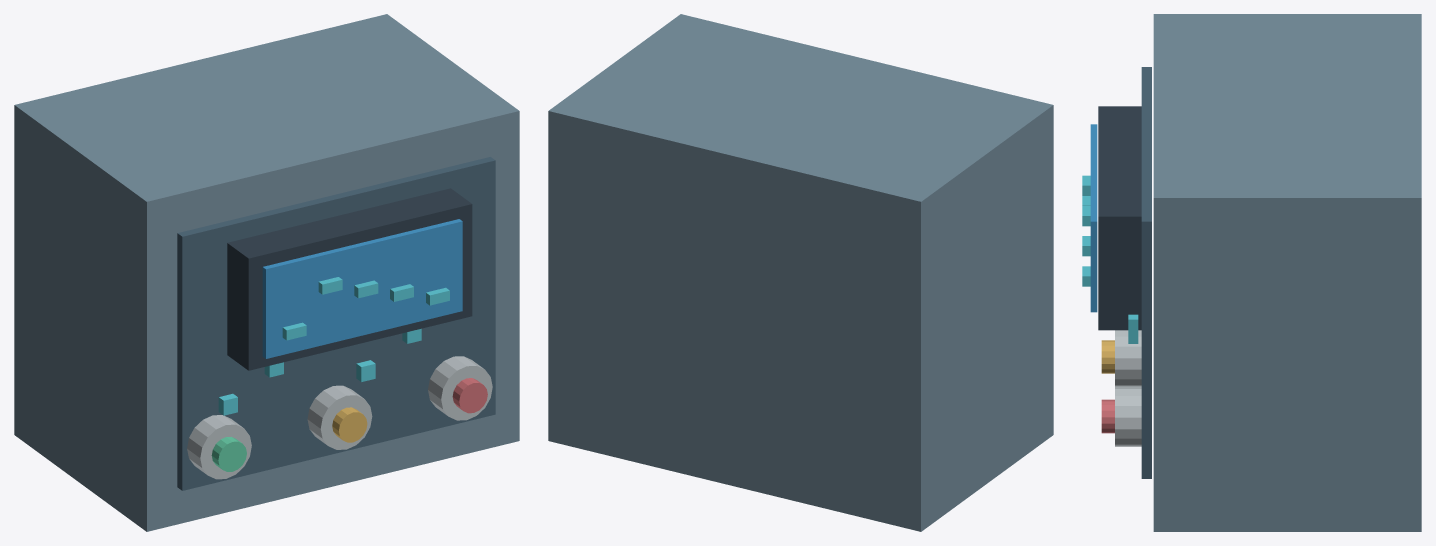
Rendered from 32_L69_PressureEnthalpyCycleDisplay.glb.
The picture shows the model from 3 angles, left to right: view 1: azimuth 30°, elevation 25°; view 2: azimuth 150°, elevation 25°; view 3: azimuth 270°, elevation 25°; orthographic projection.
Visible parts, largest first — view 1: PressureEnthalpyCycleDisplay_Part_000, PressureEnthalpyCycleDisplay_Part_001, PressureEnthalpyCycleDisplay_Part_003, PressureEnthalpyCycleDisplay_Part_002, PressureEnthalpyCycleDisplay_Part_013, PressureEnthalpyCycleDisplay_Part_011, PressureEnthalpyCycleDisplay_Part_009, PressureEnthalpyCycleDisplay_Part_012, PressureEnthalpyCycleDisplay_Part_014, PressureEnthalpyCycleDisplay_Part_010; view 2: PressureEnthalpyCycleDisplay_Part_000; view 3: PressureEnthalpyCycleDisplay_Part_000, PressureEnthalpyCycleDisplay_Part_002, PressureEnthalpyCycleDisplay_Part_001, PressureEnthalpyCycleDisplay_Part_013, PressureEnthalpyCycleDisplay_Part_003, PressureEnthalpyCycleDisplay_Part_011, PressureEnthalpyCycleDisplay_Part_014, PressureEnthalpyCycleDisplay_Part_012.
Part boxes in pixels (x1,y1,x2,y2): PressureEnthalpyCycleDisplay_Part_000: [14, 14, 519, 531]; PressureEnthalpyCycleDisplay_Part_001: [177, 157, 495, 490]; PressureEnthalpyCycleDisplay_Part_003: [262, 219, 462, 358]; PressureEnthalpyCycleDisplay_Part_002: [227, 188, 472, 370]; PressureEnthalpyCycleDisplay_Part_013: [428, 356, 492, 420]; PressureEnthalpyCycleDisplay_Part_011: [307, 385, 372, 449]; PressureEnthalpyCycleDisplay_Part_009: [187, 415, 251, 479]; PressureEnthalpyCycleDisplay_Part_012: [332, 407, 367, 442]; PressureEnthalpyCycleDisplay_Part_014: [452, 378, 487, 413]; PressureEnthalpyCycleDisplay_Part_010: [211, 437, 246, 471]; PressureEnthalpyCycleDisplay_Part_000: [548, 14, 1053, 531]; PressureEnthalpyCycleDisplay_Part_000: [1153, 14, 1421, 531]; PressureEnthalpyCycleDisplay_Part_002: [1098, 106, 1141, 330]; PressureEnthalpyCycleDisplay_Part_001: [1141, 67, 1151, 478]; PressureEnthalpyCycleDisplay_Part_013: [1115, 386, 1141, 446]; PressureEnthalpyCycleDisplay_Part_003: [1090, 124, 1097, 312]; PressureEnthalpyCycleDisplay_Part_011: [1115, 330, 1141, 386]; PressureEnthalpyCycleDisplay_Part_014: [1101, 399, 1114, 433]; PressureEnthalpyCycleDisplay_Part_012: [1101, 340, 1114, 373].
Bounding box in the file's own units: 0.65 × 0.55 × 0.506.
